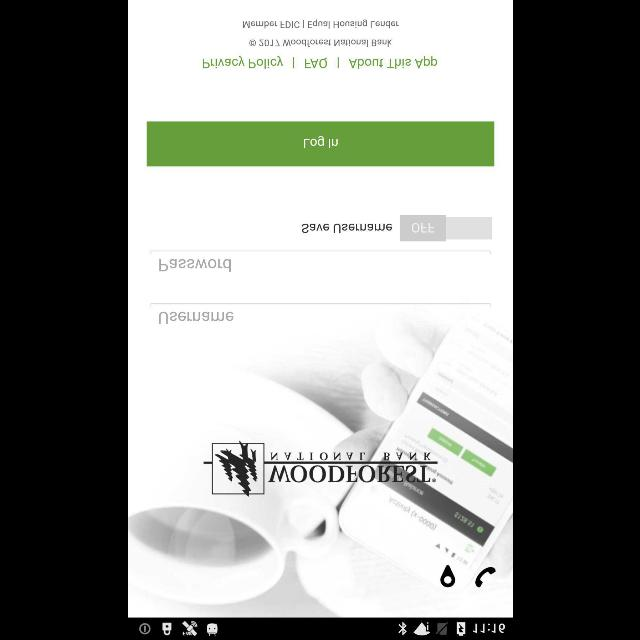icon: (440, 564, 454, 588)
image: (203, 439, 437, 496), (474, 566, 496, 588)
input: (150, 302, 490, 324), (150, 250, 490, 272)
switch: (399, 215, 491, 241)
text: (242, 20, 398, 28), (348, 56, 436, 68), (160, 258, 230, 272), (202, 56, 282, 68), (300, 223, 392, 233), (158, 312, 232, 324), (248, 40, 392, 46), (304, 58, 326, 68)
textbutton: (146, 122, 494, 166)
uppertaskbar: (128, 617, 512, 639)
